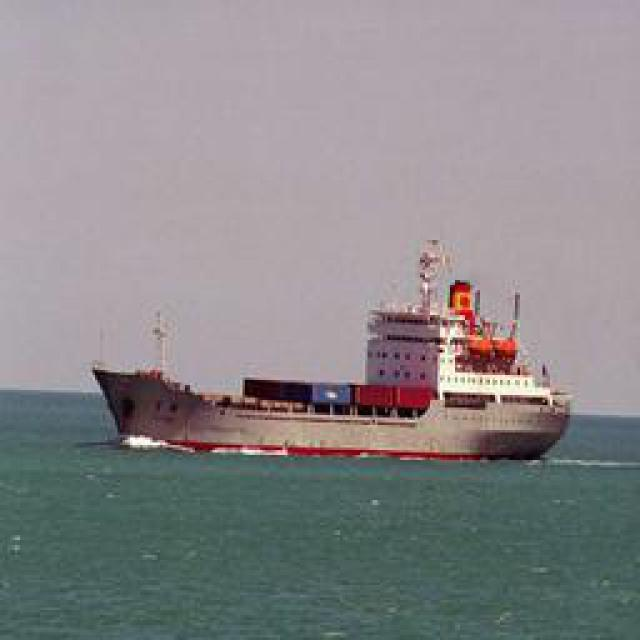Ship: (101, 280, 574, 465)
